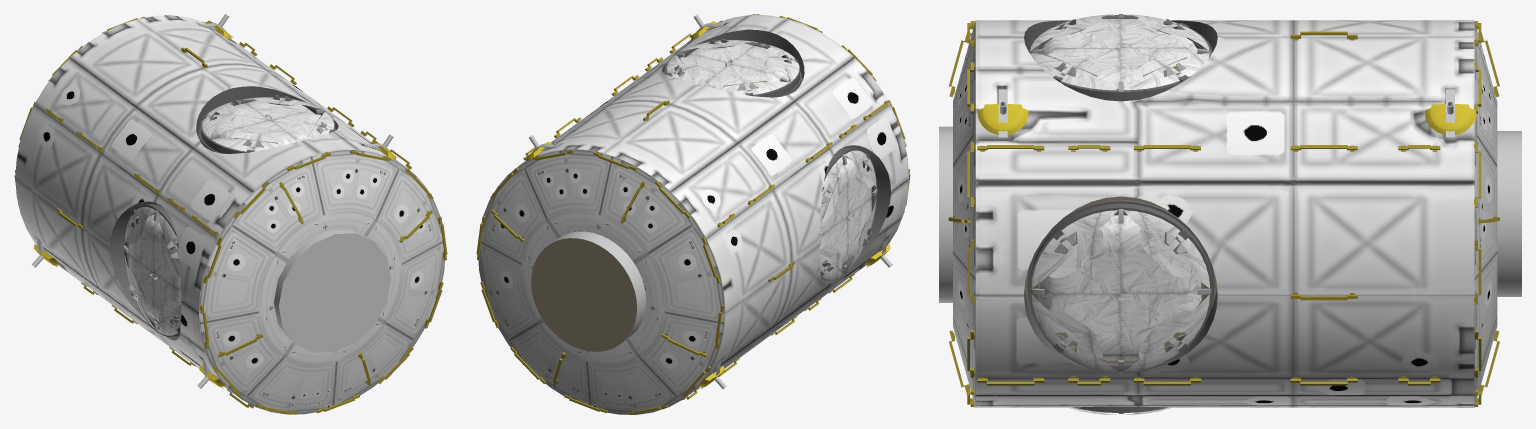
The picture shows the model from 3 angles, left to right: view 1: azimuth 30°, elevation 25°; view 2: azimuth 150°, elevation 25°; view 3: azimuth 270°, elevation 25°; orthographic projection. The views are drawn at different scales.
Parts seen in each view (by area): view 1: Node2; view 2: Node2; view 3: Node2.
Boxes of the visible parts, x1=… form: Node2: x1=14, y1=14, x2=447, y2=414; Node2: x1=476, y1=14, x2=910, y2=414; Node2: x1=939, y1=14, x2=1521, y2=414.
Bounding box in the file's own units: 4.6 × 4.6 × 6.68.
Materials: 10 (4 with a texture image).
